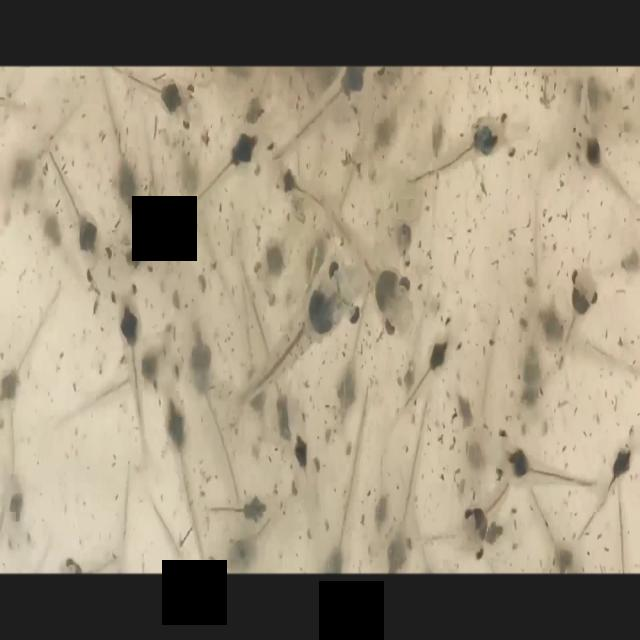shrimp3: (225, 240, 369, 423), (512, 276, 639, 386), (400, 99, 537, 197), (104, 261, 164, 482), (44, 140, 116, 288), (389, 308, 474, 430), (487, 424, 599, 496), (108, 68, 208, 140), (559, 253, 603, 382)
